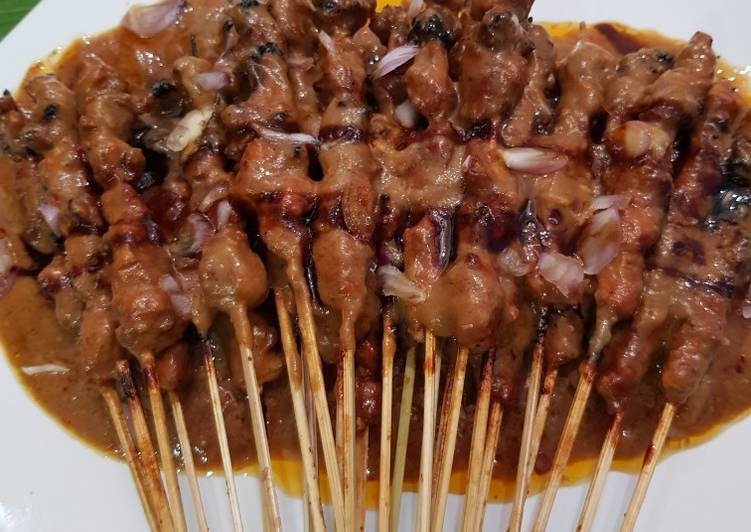sate_madura: (8, 9, 748, 527)
